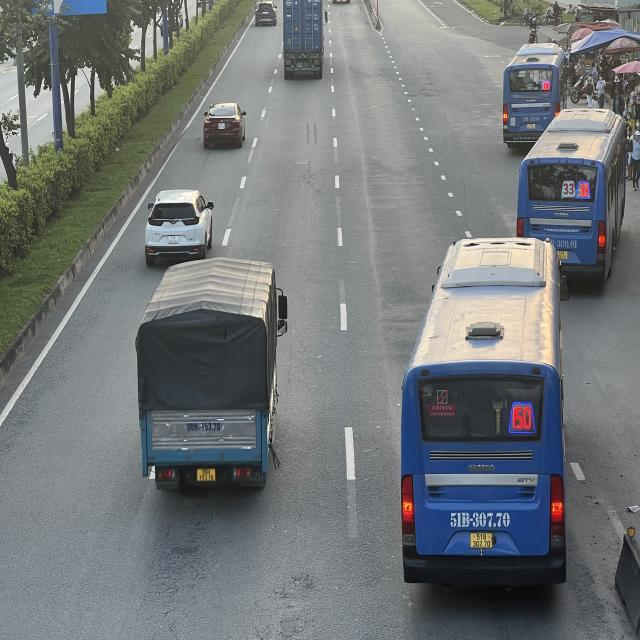car: (146, 189, 214, 258), (202, 104, 246, 151), (254, 1, 277, 28)
coach: (401, 238, 565, 591), (518, 110, 632, 287), (504, 42, 565, 144)
container: (282, 0, 326, 80)
truck: (135, 257, 287, 490)
